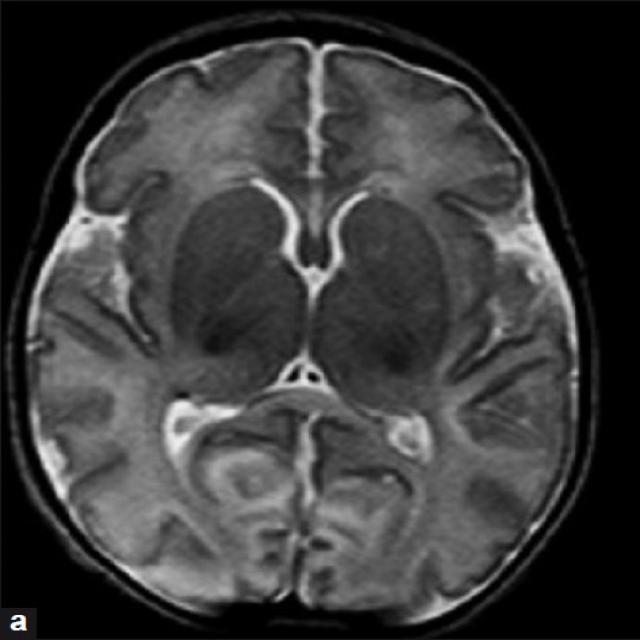notumor: (7, 14, 602, 634)
